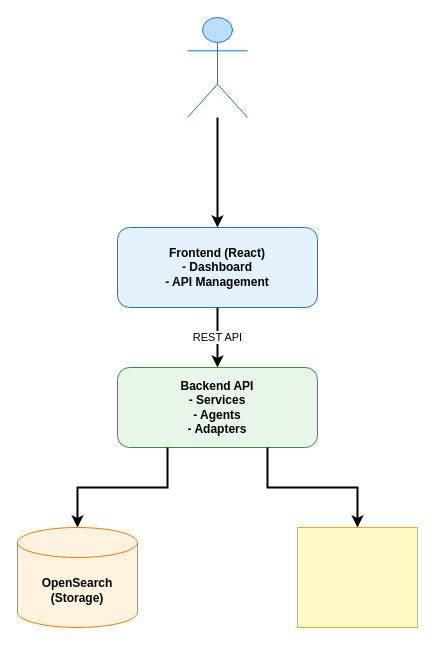
Some shapes in this 435 by 645 pixel diagram are drawn without their labels. Each missing label, with the centre of its shape:
"Demo Gateway (APIs)" goes at point (357, 577).
"User (Browser)" goes at point (217, 67).
